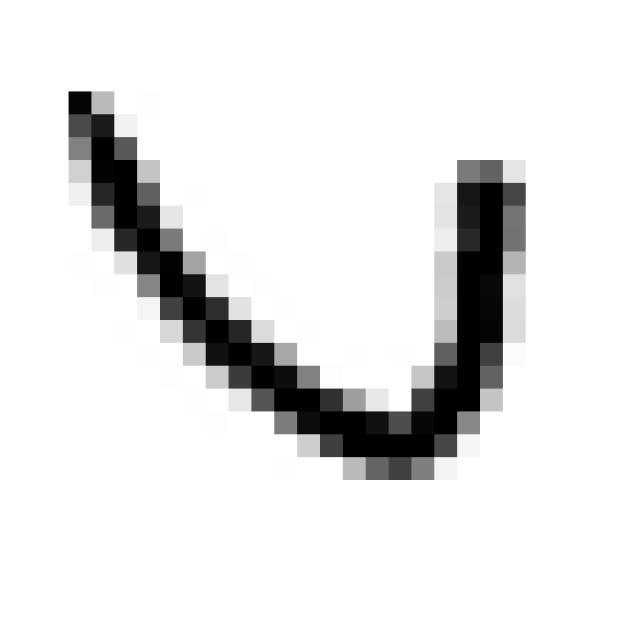7 -seven-: (43, 66, 542, 500)
